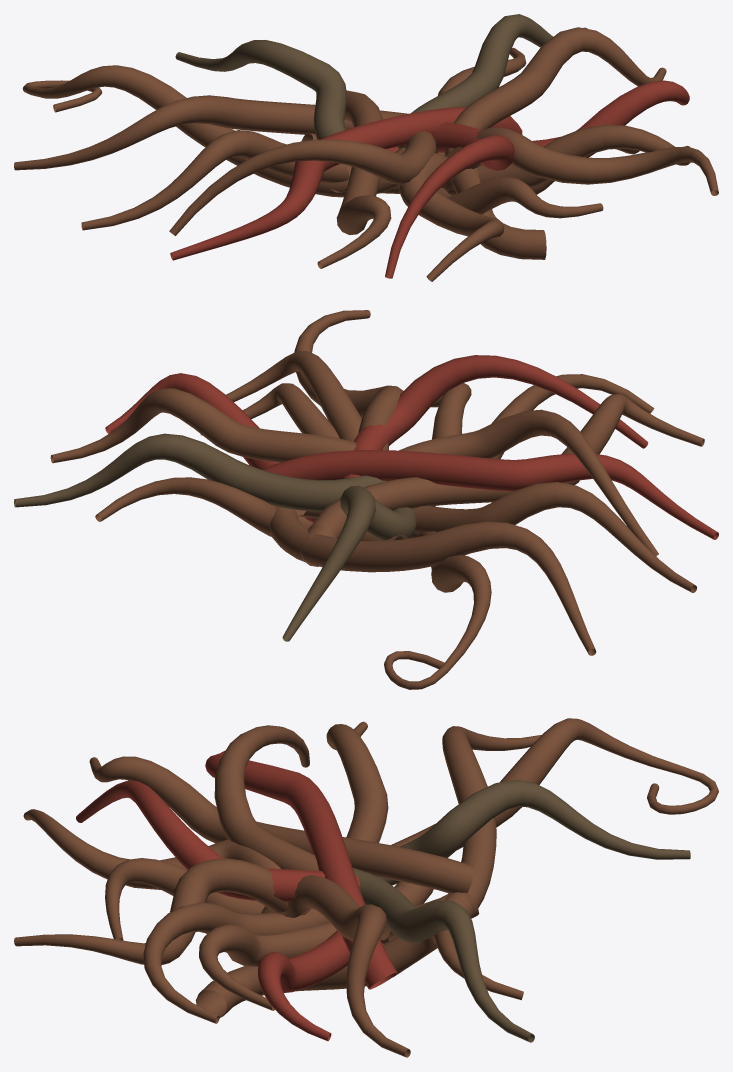
The model's file is sarmasiq(1).fbx.
The picture shows the model from 3 angles, top to bottom: view 1: azimuth 30°, elevation 25°; view 2: azimuth 150°, elevation 25°; view 3: azimuth 270°, elevation 25°; orthographic projection. The views are drawn at different scales.
Parts seen in each view (by area): view 1: BezierCurve.001; view 2: BezierCurve.001; view 3: BezierCurve.001.
Part boxes in pixels (bbox=[...]): BezierCurve.001: bbox=[14, 14, 718, 281]; BezierCurve.001: bbox=[14, 310, 718, 689]; BezierCurve.001: bbox=[14, 718, 718, 1057].
Bounding box in the file's own units: 159 × 40.01 × 147.
